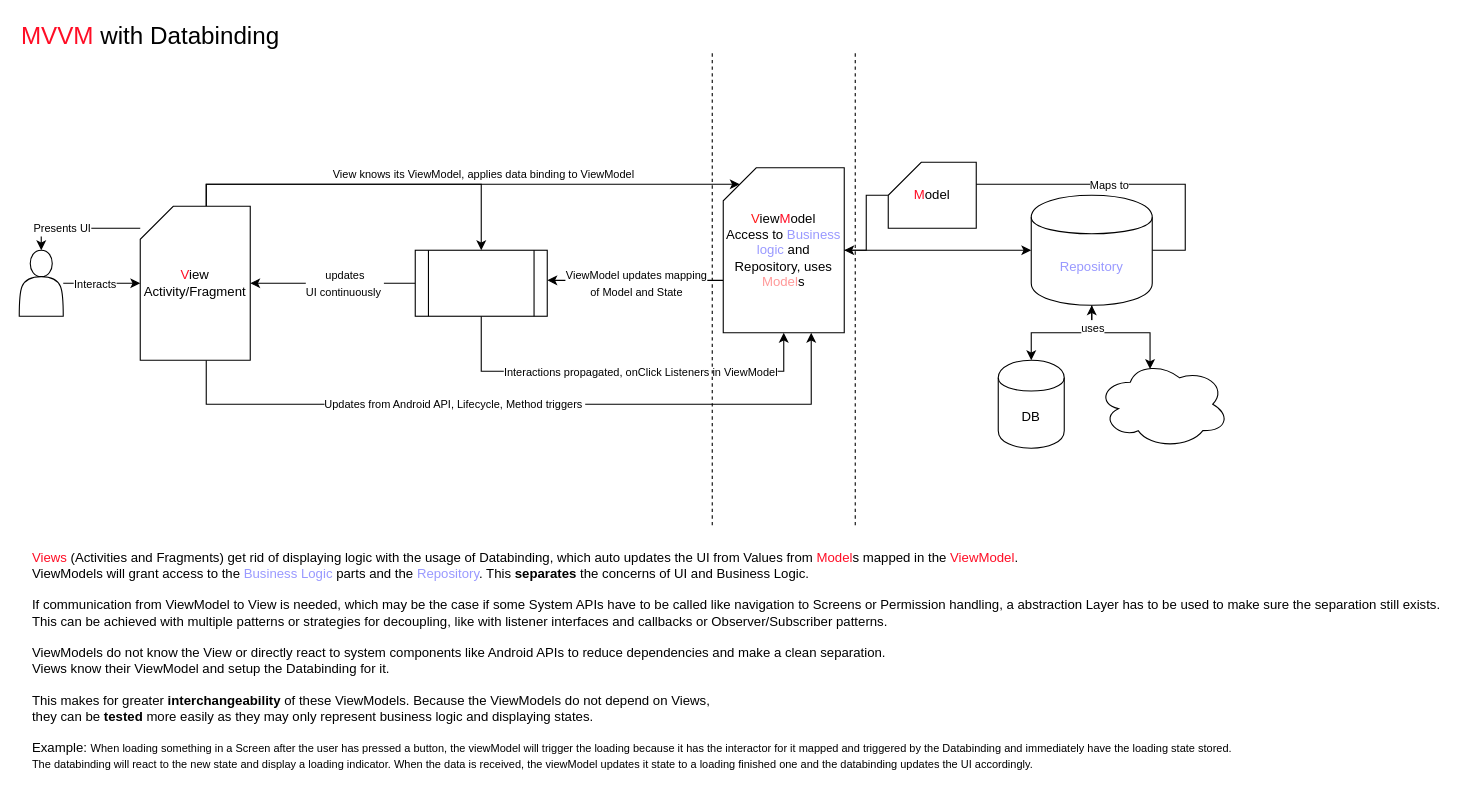
The diagram is 1480 pixels wide and 790 high, and some of its shapes have lost their labels. The centre of each missing label's shape, as x and y in pixels:
Databinding: (x=480, y=282)
Web-API: (x=1162, y=403)
